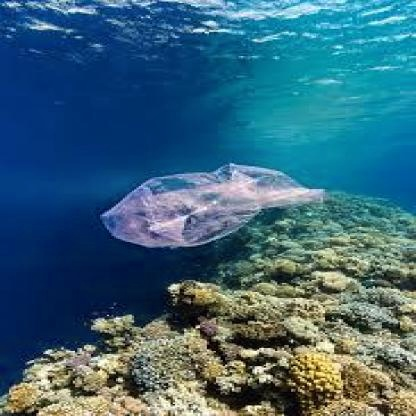pbag: (100, 162, 327, 248)
